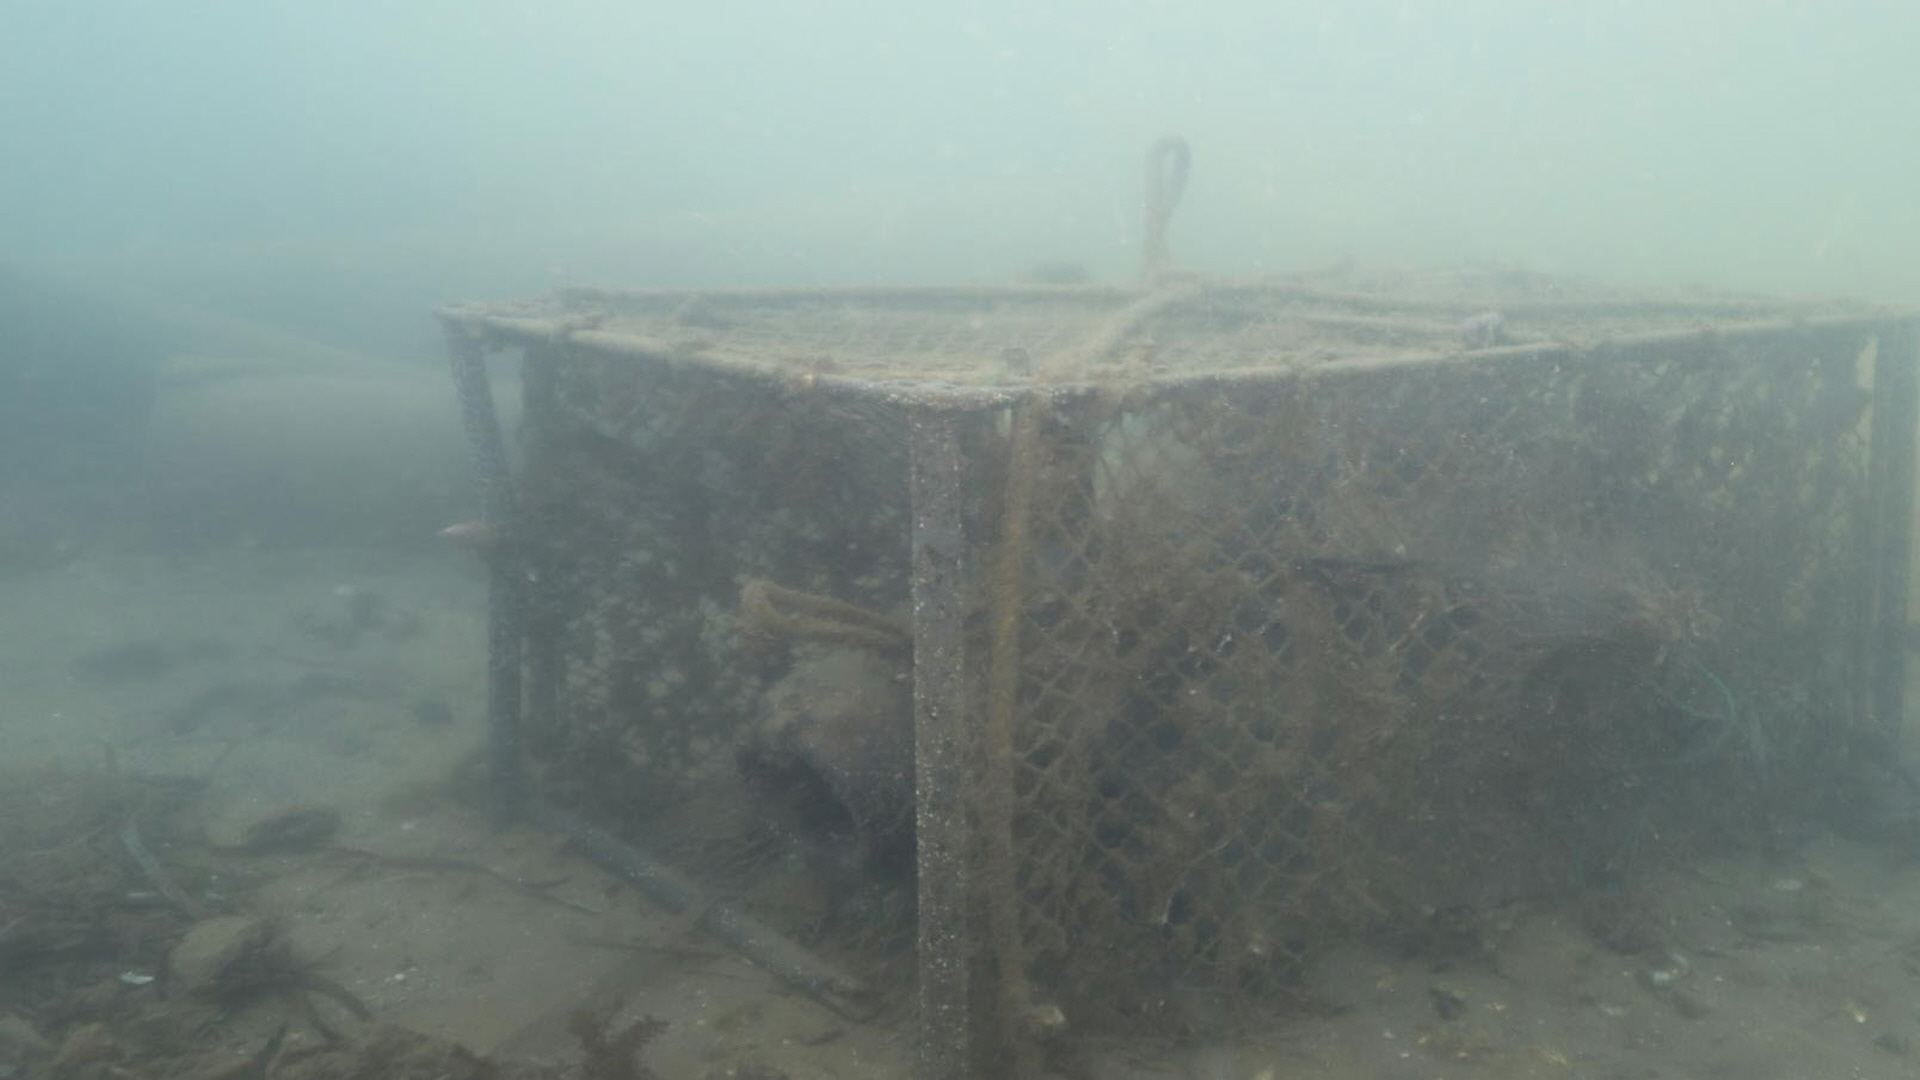bundle of ropes: (1137, 135, 1193, 287)
rectangular fish trap: (426, 284, 1920, 1080)
rope: (738, 578, 913, 650)
